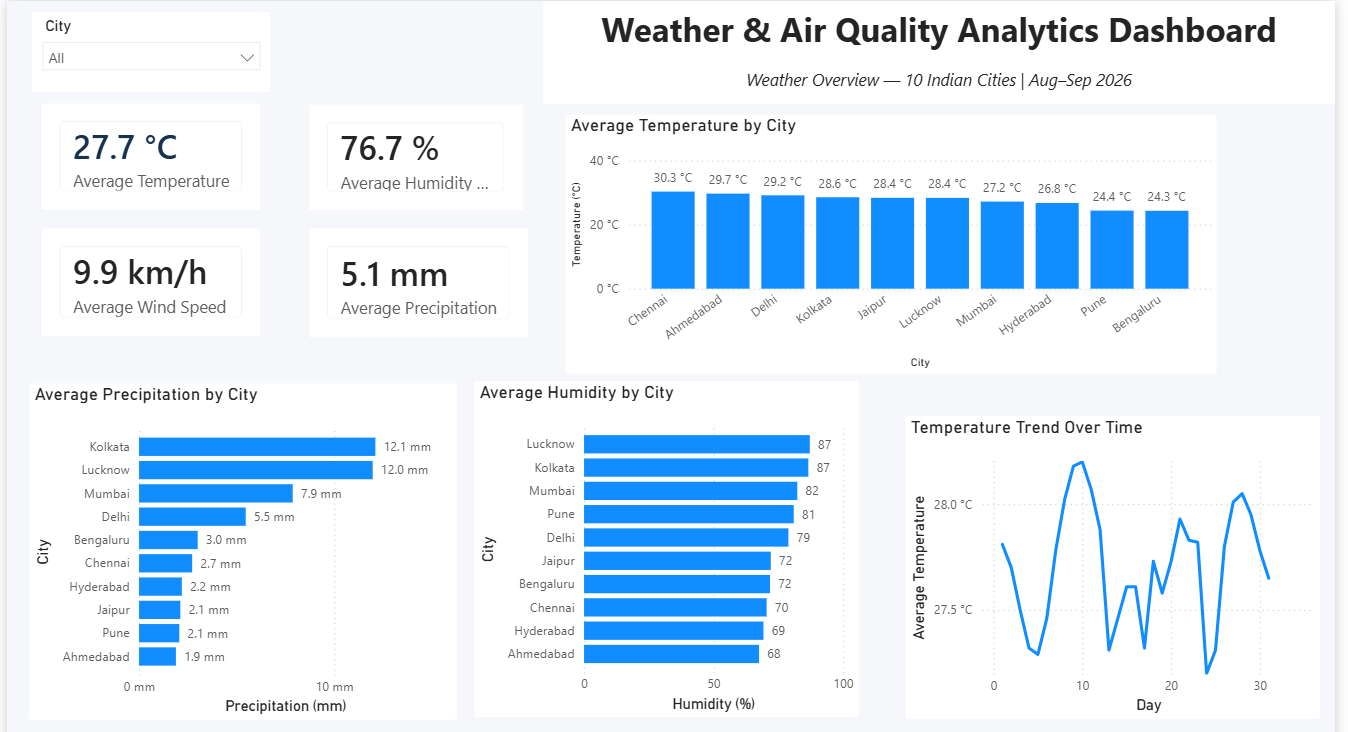

Layout of this report page (visuals, bound fields, positions):
{"tool":"powerbi","page":{"name":"Weather Overview","canvas":[1280,720],"ordinal":0},"visuals":[{"type":"textbox","box":[517.3,0,763,99],"z":0},{"type":"cardVisual","fields":{"Data":["weather_data.Average Temperature"]},"box":[34.2,99,210.3,102.7],"z":1000},{"type":"cardVisual","fields":{"Data":["weather_data.Average Wind Speed"]},"box":[34.2,218.9,210.3,103.9],"z":2000},{"type":"cardVisual","fields":{"Data":["weather_data.Average Precipitation"]},"box":[291,218.9,210.3,105.2],"z":3000},{"type":"cardVisual","fields":{"Data":["weather_data.Average Humidity Display"]},"box":[291,100.3,205.4,101.5],"z":4000},{"type":"columnChart","fields":{"Category":["Cities.City"],"Y":["weather_data.Average Temperature"]},"box":[538,110.1,627.3,249.5],"z":5000},{"type":"clusteredBarChart","fields":{"Category":["Cities.City"],"Y":["weather_data.Average Humidity"]},"box":[450,366.8,370.5,324.1],"z":6000},{"type":"lineChart","title":"Temperature Trend Over Time","fields":{"Y":["weather_data.Average Temperature"],"Category":["Calendar.Date.Variation.Date Hierarchy.Day"]},"box":[866.2,400.5,399.3,292],"z":7000},{"type":"slicer","fields":{"Values":["Cities.City"]},"box":[24.1,10.9,229.9,77],"z":8000},{"type":"clusteredBarChart","fields":{"Category":["Cities.City"],"Y":["weather_data.Average Precipitation"]},"box":[22,368.1,412.1,324.1],"z":9000}]}

Visuals, with their boxes on the page's 1280x720 design canvas (x1, y1, x2, y2). These are canvas units, not pixel positions in the 1348x732 screenshot, which may show the page scaled, cropped or inside an application window:
textbox: region(517, 0, 1280, 99)
cardVisual - weather_data.Average Temperature: region(34, 99, 244, 202)
cardVisual - weather_data.Average Wind Speed: region(34, 219, 244, 323)
cardVisual - weather_data.Average Precipitation: region(291, 219, 501, 324)
cardVisual - weather_data.Average Humidity Display: region(291, 100, 496, 202)
columnChart - Cities.City x weather_data.Average Temperature: region(538, 110, 1165, 360)
clusteredBarChart - Cities.City x weather_data.Average Humidity: region(450, 367, 820, 691)
"Temperature Trend Over Time" lineChart: region(866, 400, 1266, 692)
slicer - Cities.City: region(24, 11, 254, 88)
clusteredBarChart - Cities.City x weather_data.Average Precipitation: region(22, 368, 434, 692)
